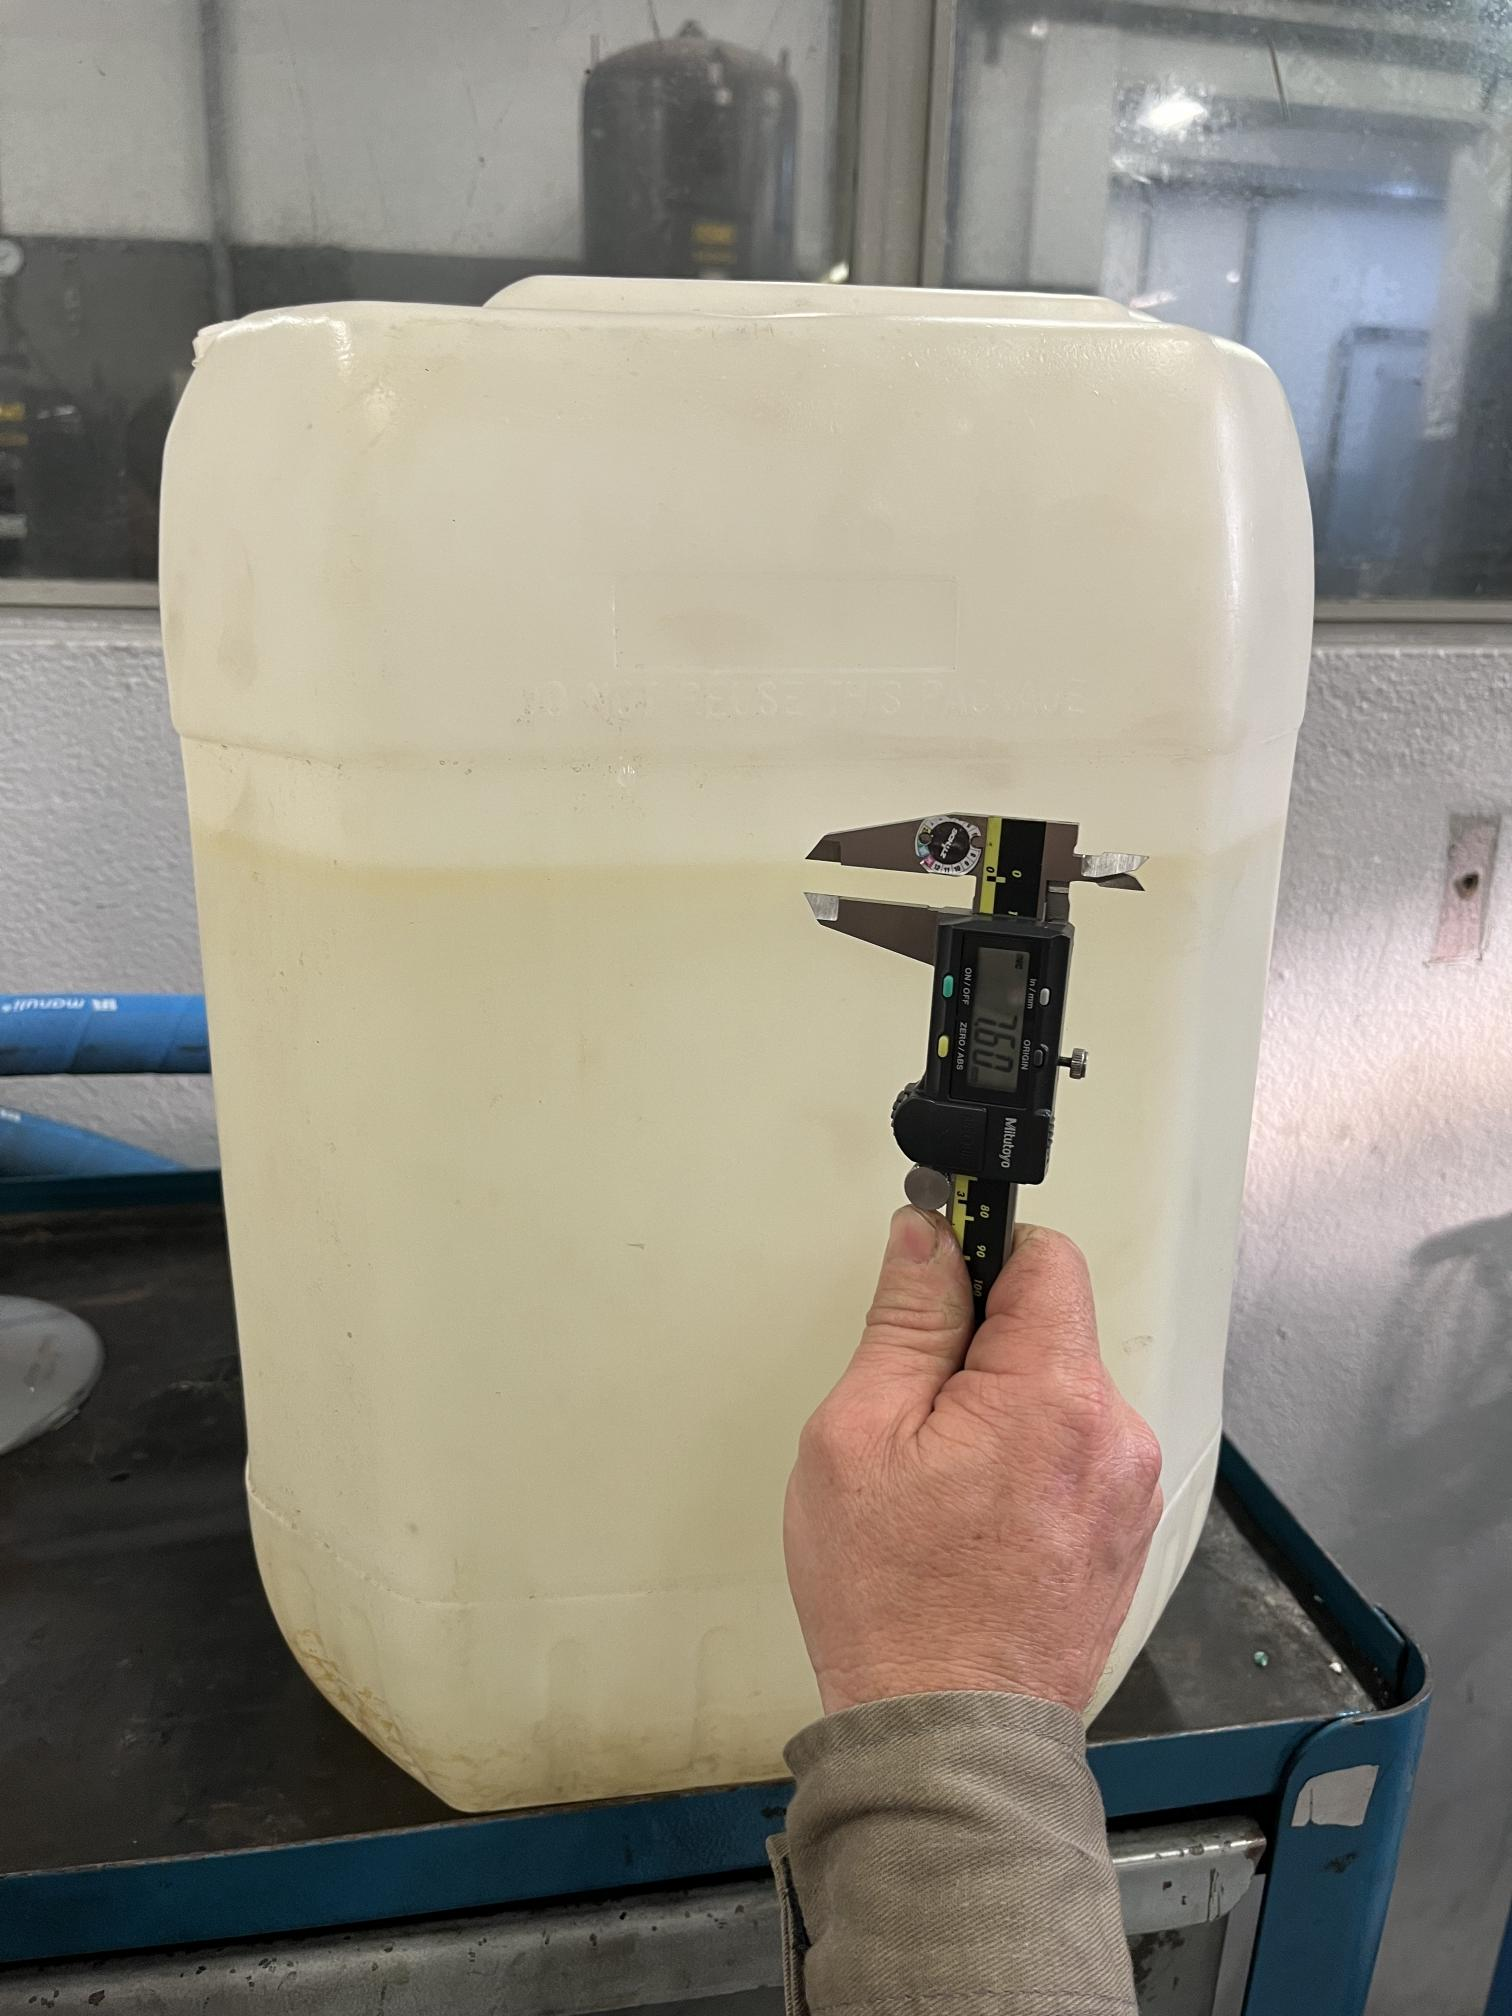Galao: (135, 190, 1290, 1756)
